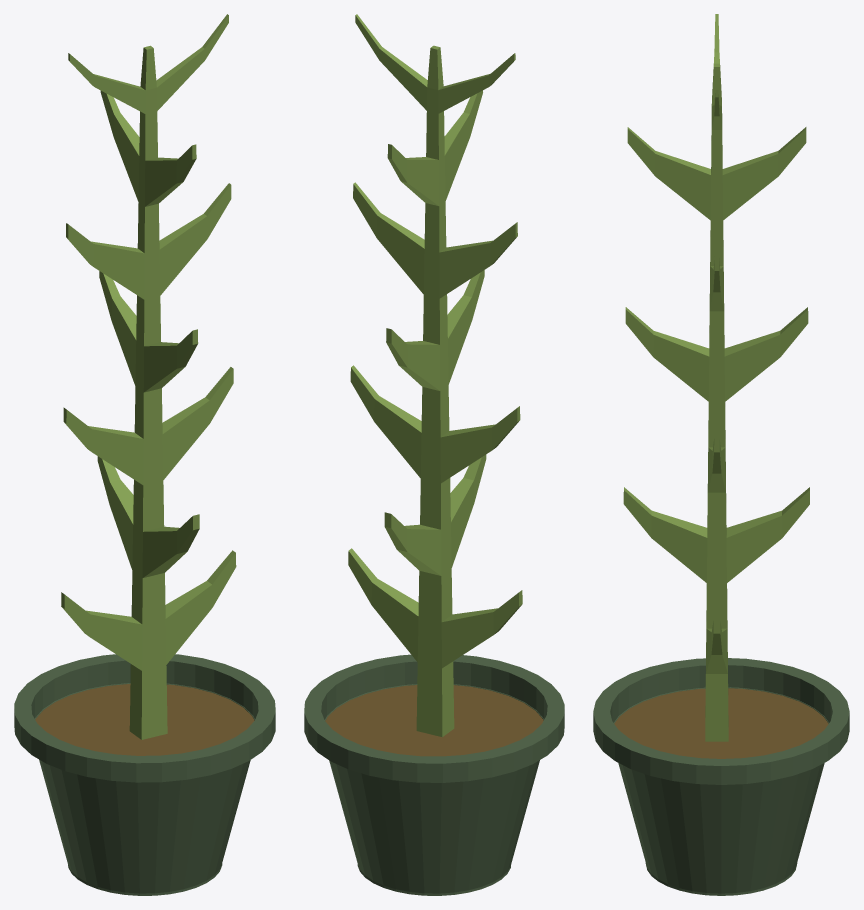
File: plant_1.fbx
3 views of the same model, side by side, from view 1: azimuth 30°, elevation 25°; view 2: azimuth 150°, elevation 25°; view 3: azimuth 270°, elevation 25° (orthographic). The views are drawn at different scales.
Visible parts, largest first — view 1: Cylinder.001; view 2: Cylinder.001; view 3: Cylinder.001.
Boxes of the visible parts, x1,y1,x2,y2 form: Cylinder.001: [14, 14, 275, 895]; Cylinder.001: [304, 14, 564, 895]; Cylinder.001: [593, 14, 849, 895].
Bounding box in the file's own units: 182 × 637 × 182.
